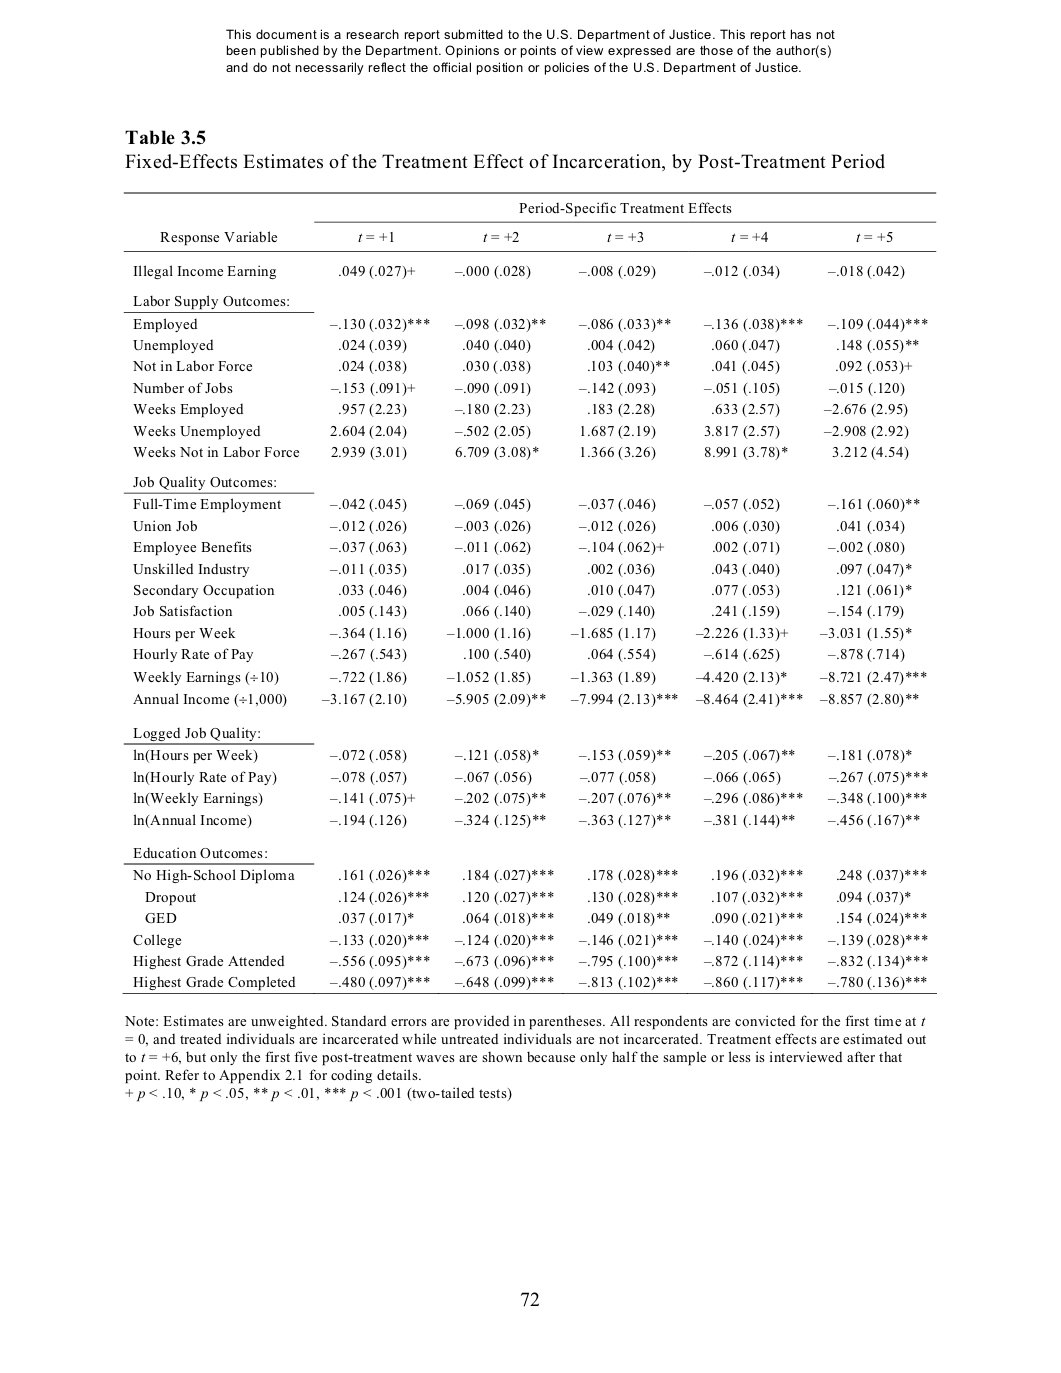Table: (121, 192, 936, 993)
